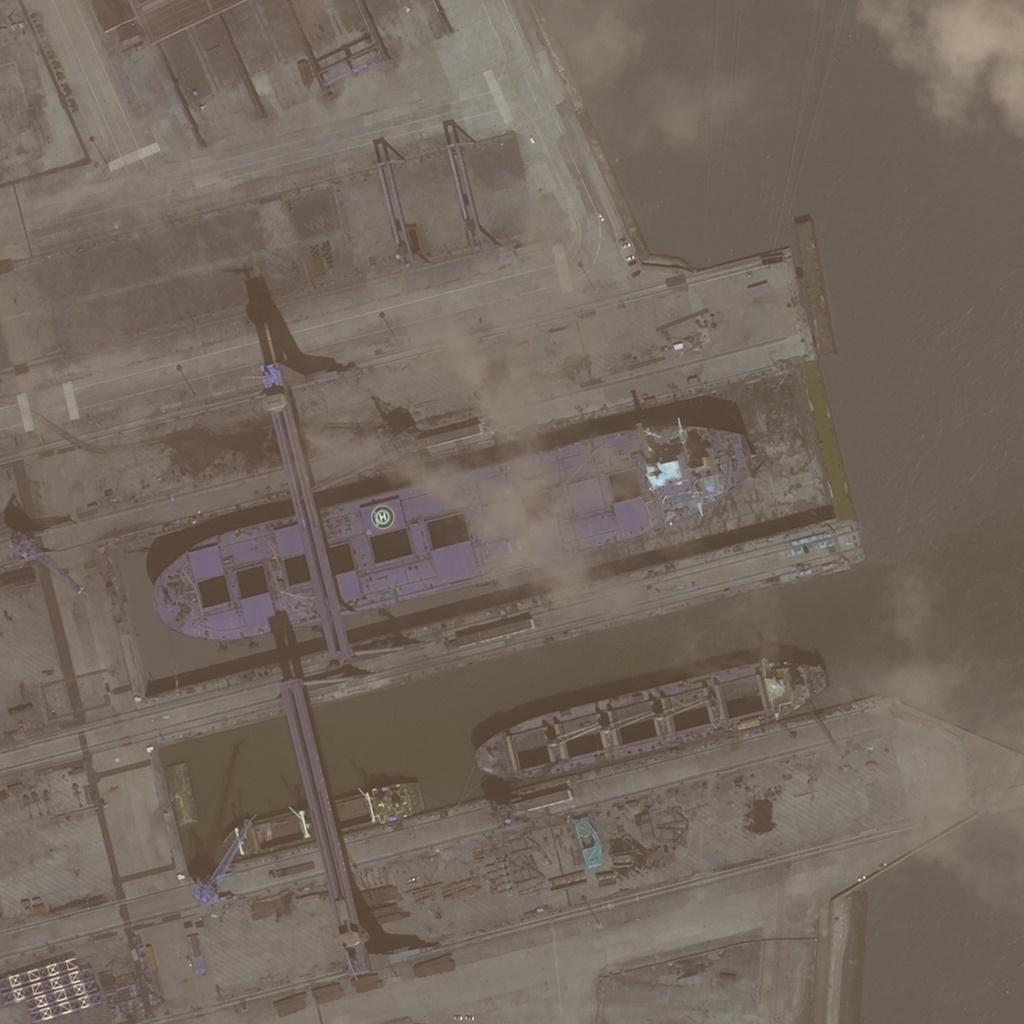ship: (152, 424, 760, 654), (472, 656, 842, 794), (218, 776, 432, 864)
